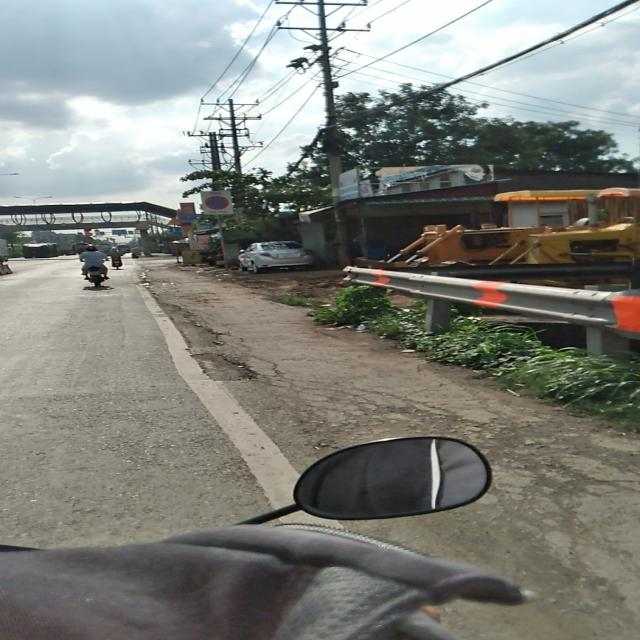Cam dung va do: (205, 196, 229, 210)
